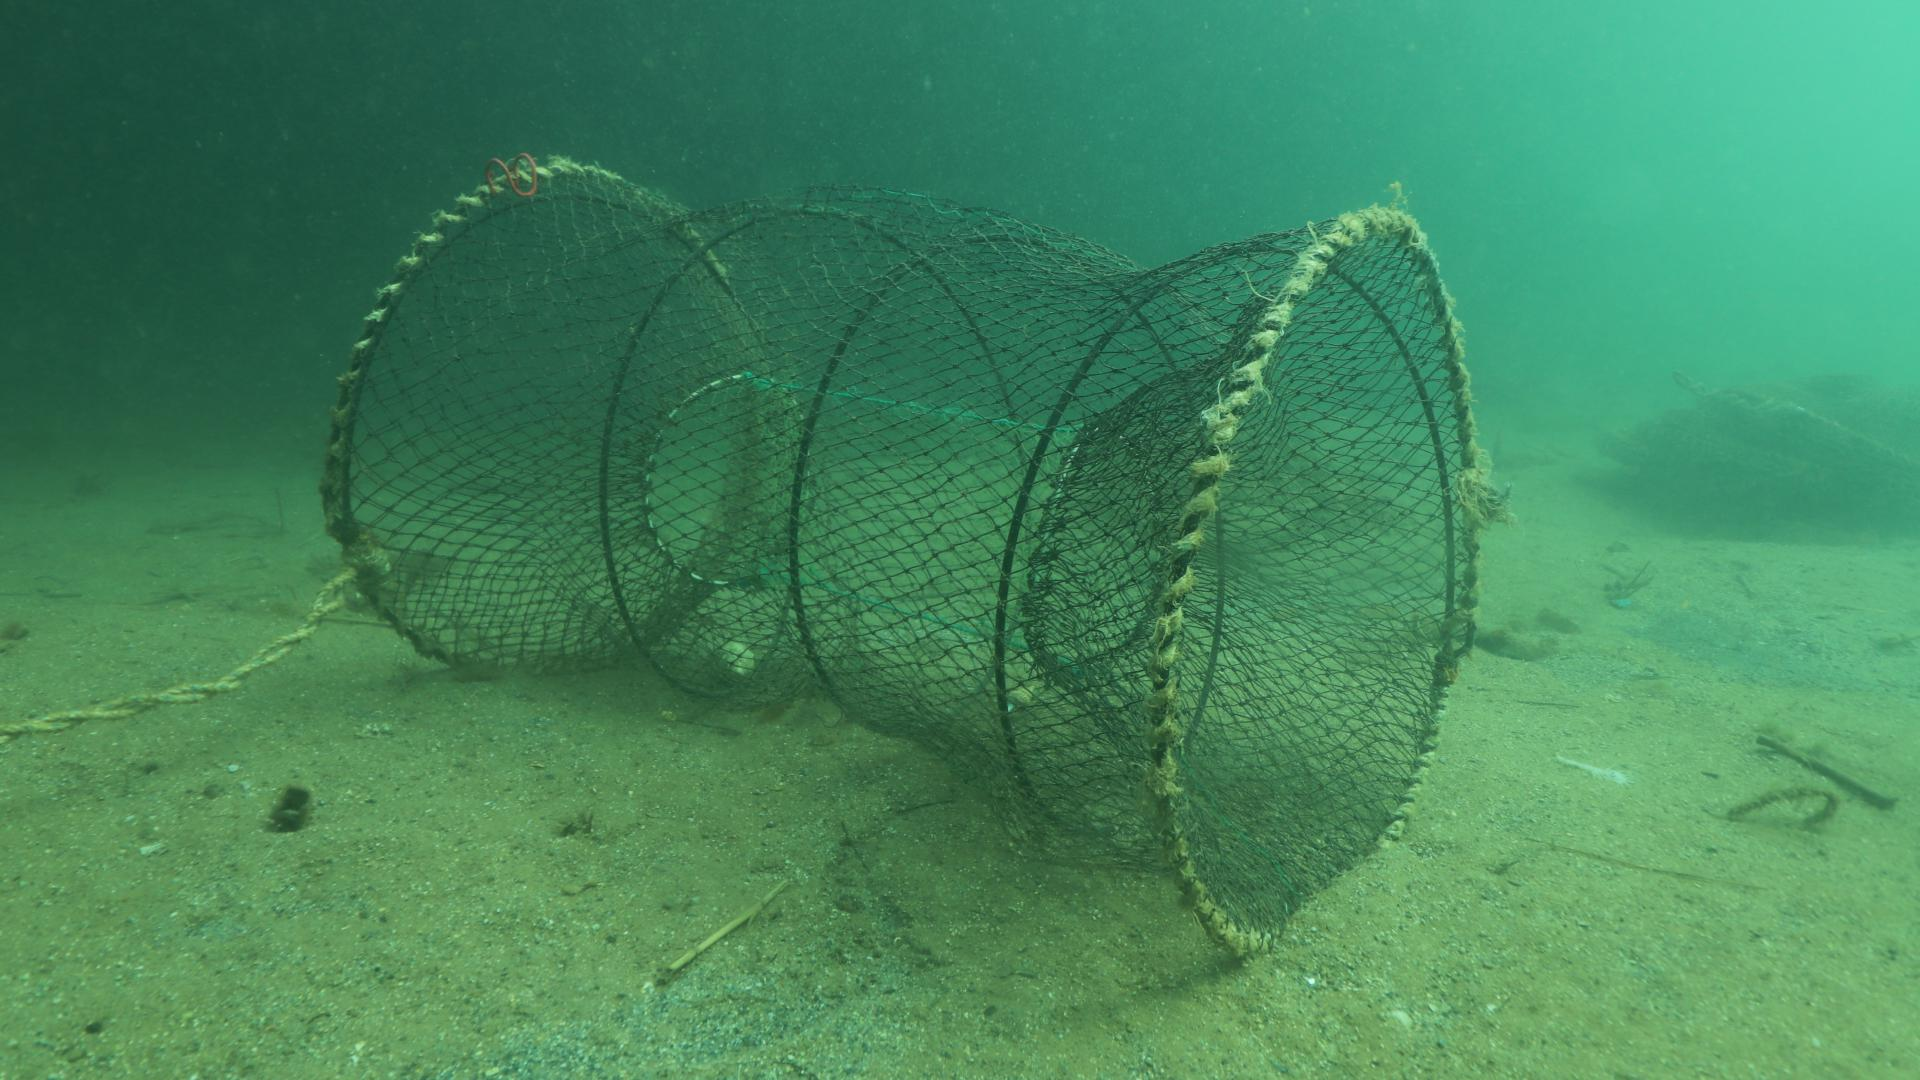bundle of ropes: (0, 563, 336, 752)
spring fish trap: (313, 149, 1481, 967)
